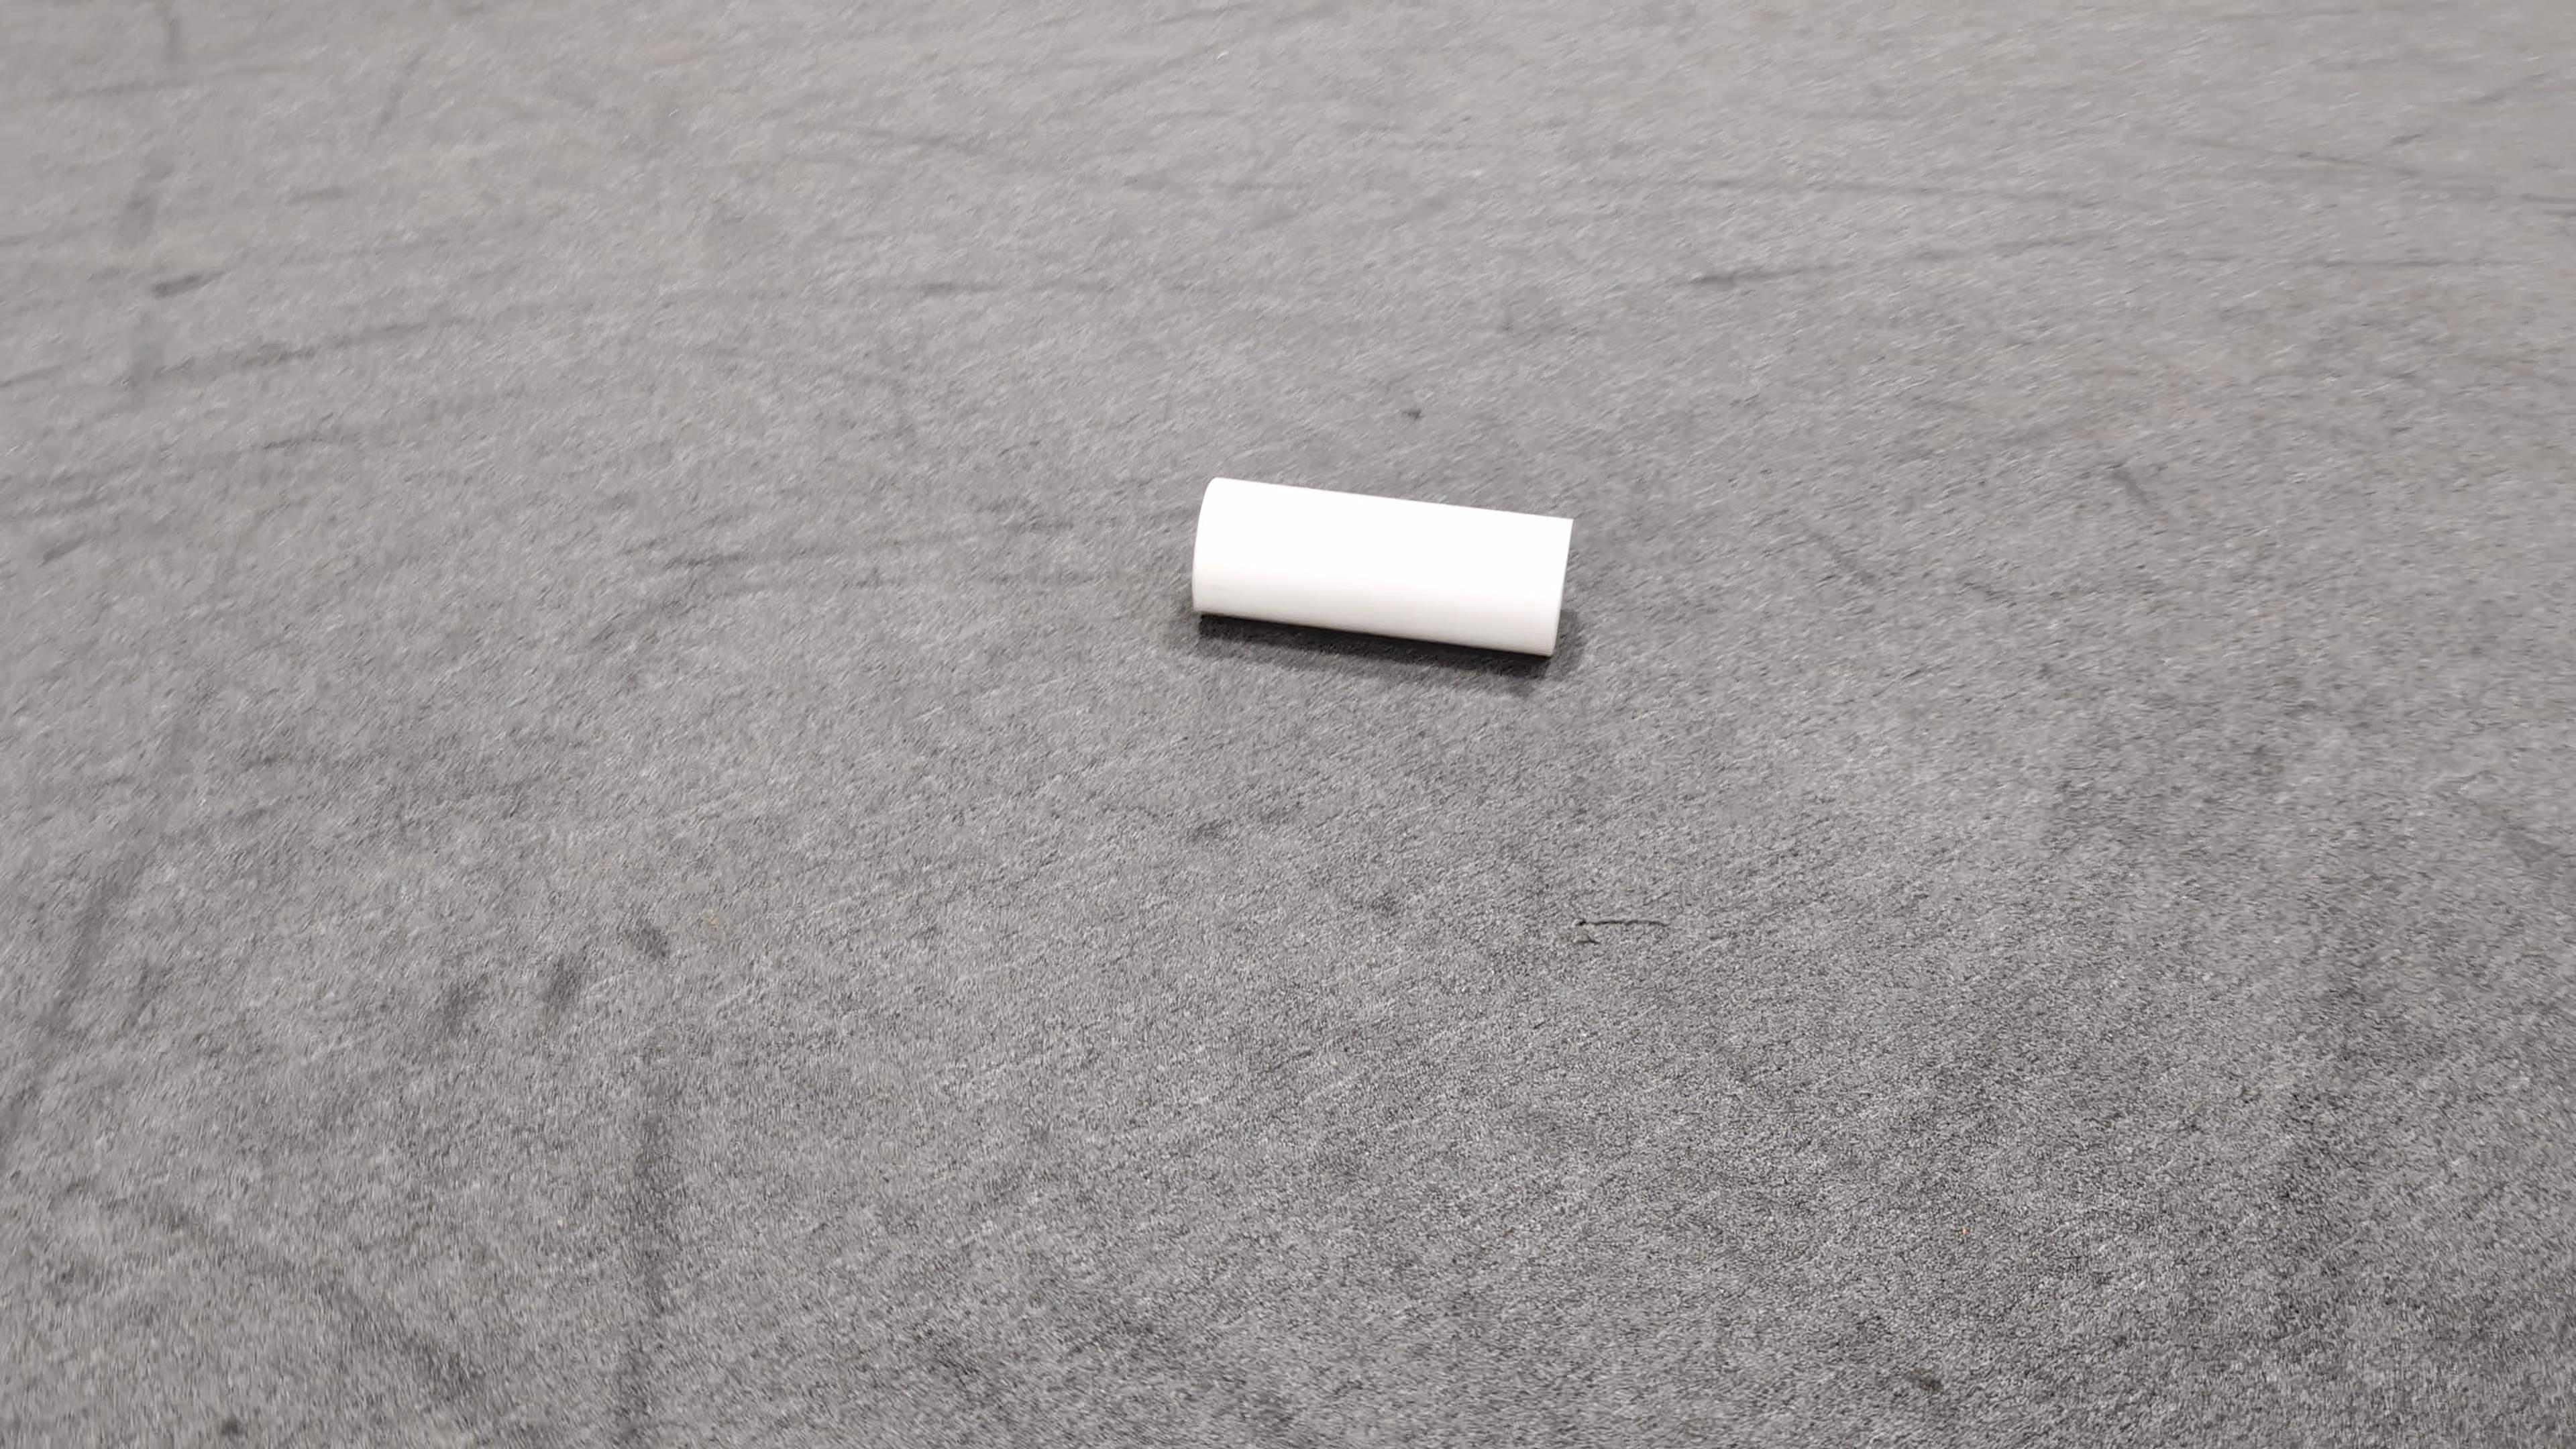coral: (1191, 474, 1573, 656)
